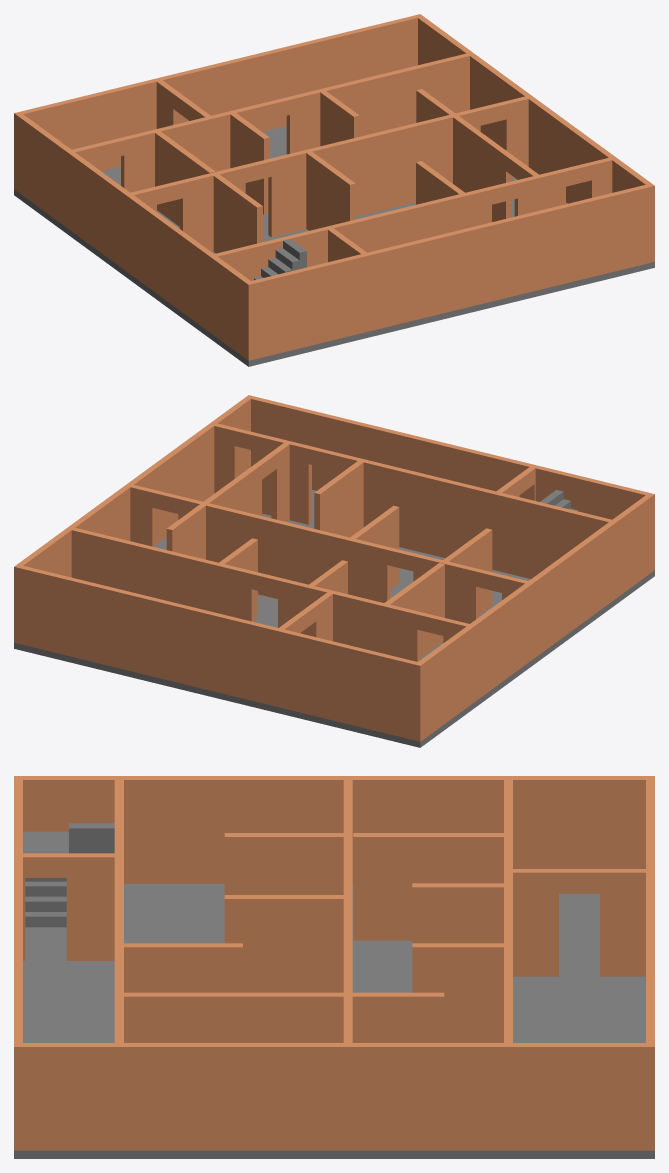
The model's file is SM_Level_5.fbx.
3 renders of one model, top to bottom at view 1: azimuth 30°, elevation 25°; view 2: azimuth 150°, elevation 25°; view 3: azimuth 270°, elevation 25°, orthographic. The views are drawn at different scales.
Parts seen in each view (by area): view 1: SM_Level_5; view 2: SM_Level_5; view 3: SM_Level_5.
Boxes of the visible parts, x1=… form: SM_Level_5: x1=14, y1=14, x2=654, y2=366; SM_Level_5: x1=14, y1=395, x2=654, y2=747; SM_Level_5: x1=14, y1=776, x2=654, y2=1158.
Size of the model in its own units: 14 by 14 by 2.7.
